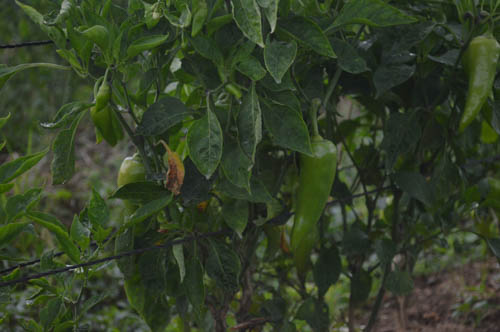ChiliPepper: (296, 139, 338, 255), (457, 37, 493, 131), (92, 106, 116, 144), (116, 156, 140, 194)
